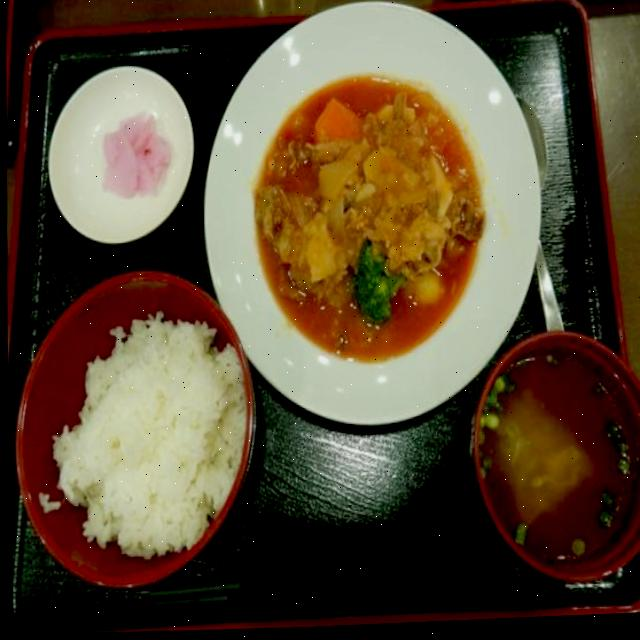汤锅炖物: (455, 320, 640, 599)
米饭主食: (5, 267, 259, 598)
